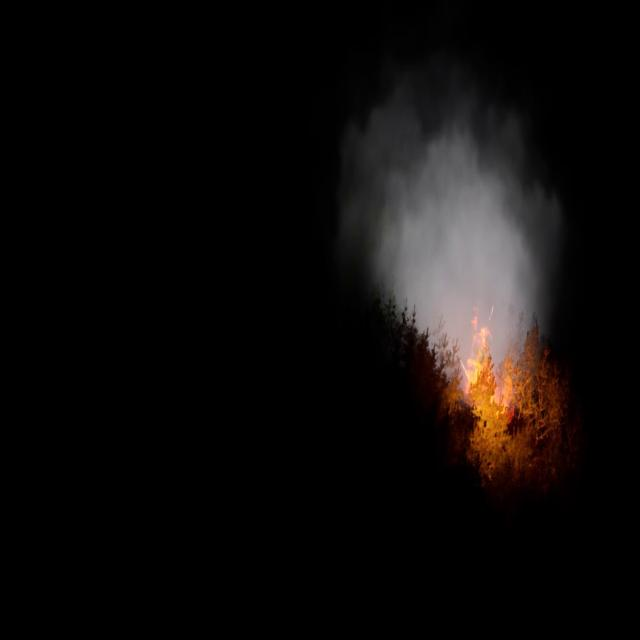fire: (461, 303, 515, 424)
smoke: (336, 56, 565, 400)
